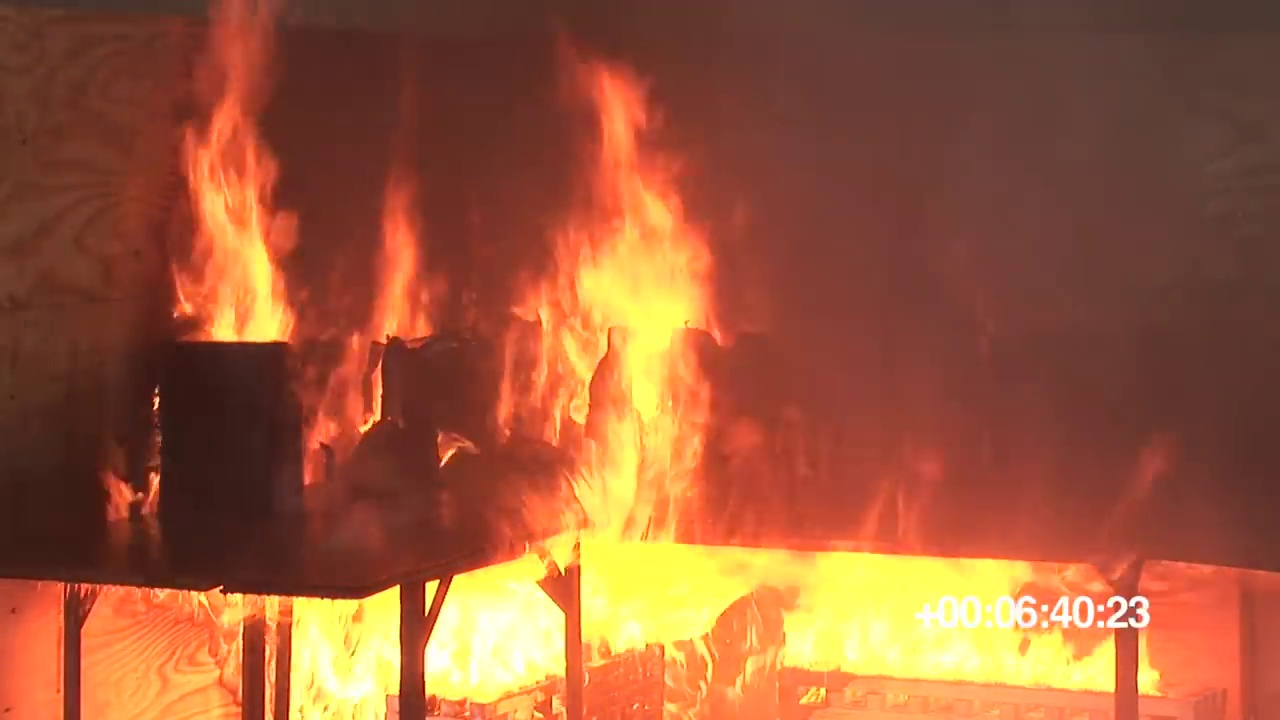fire: (425, 558, 1158, 698), (519, 58, 719, 546), (174, 64, 293, 343), (284, 592, 396, 719), (373, 193, 422, 338)
